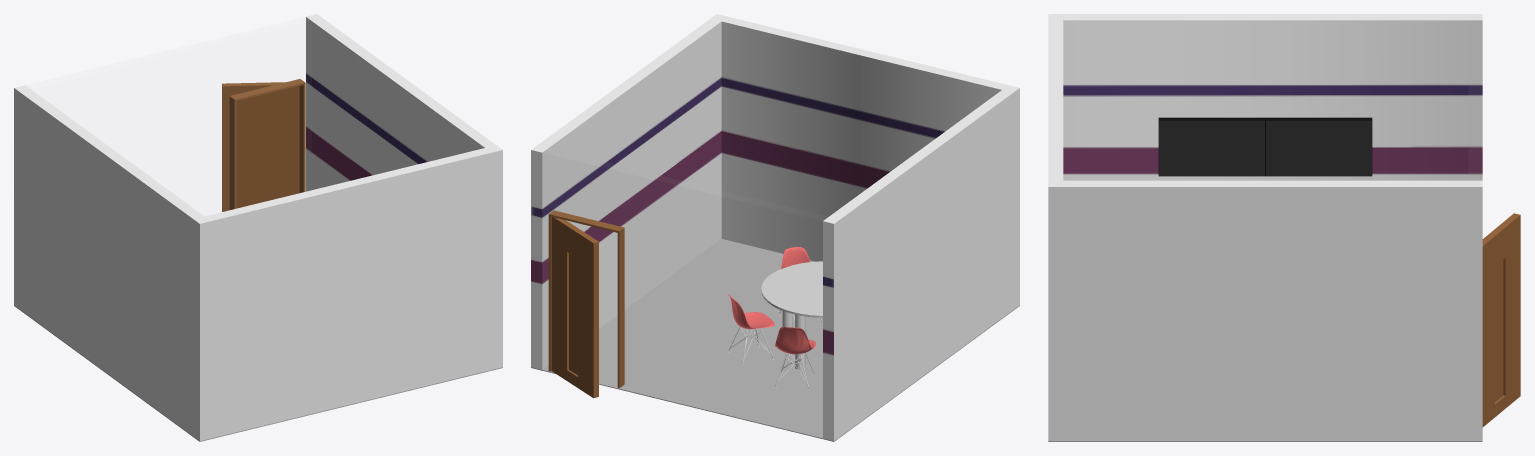
Rendered from cbRoom.gltf.
3 views of the same model, side by side, from view 1: azimuth 30°, elevation 25°; view 2: azimuth 150°, elevation 25°; view 3: azimuth 270°, elevation 25° (orthographic). The views are drawn at different scales.
Parts seen in each view (by area): view 1: Main Wall, PivotDoor001, Floor; view 2: Main Wall, Floor, PivotDoor001, Table, Group_001, Group_004; view 3: Main Wall, PivotDoor001, Screen001, Plane001, Screen.
Part boxes in pixels (x1,y1,x2,y2): Main Wall: [14, 14, 502, 440]; PivotDoor001: [222, 79, 305, 211]; Floor: [14, 305, 502, 441]; Main Wall: [531, 14, 1019, 440]; Floor: [531, 239, 1019, 441]; PivotDoor001: [548, 210, 624, 398]; Table: [761, 261, 822, 317]; Group_001: [775, 327, 816, 354]; Group_004: [728, 294, 774, 329]; Main Wall: [1048, 14, 1482, 440]; PivotDoor001: [1482, 213, 1520, 427]; Screen001: [1158, 117, 1265, 176]; Plane001: [1266, 120, 1371, 175]; Screen: [1265, 117, 1372, 176].
Size of the model in its own units: 4.05 by 2.79 by 4.68.
Materials: 9 (1 with a texture image).
